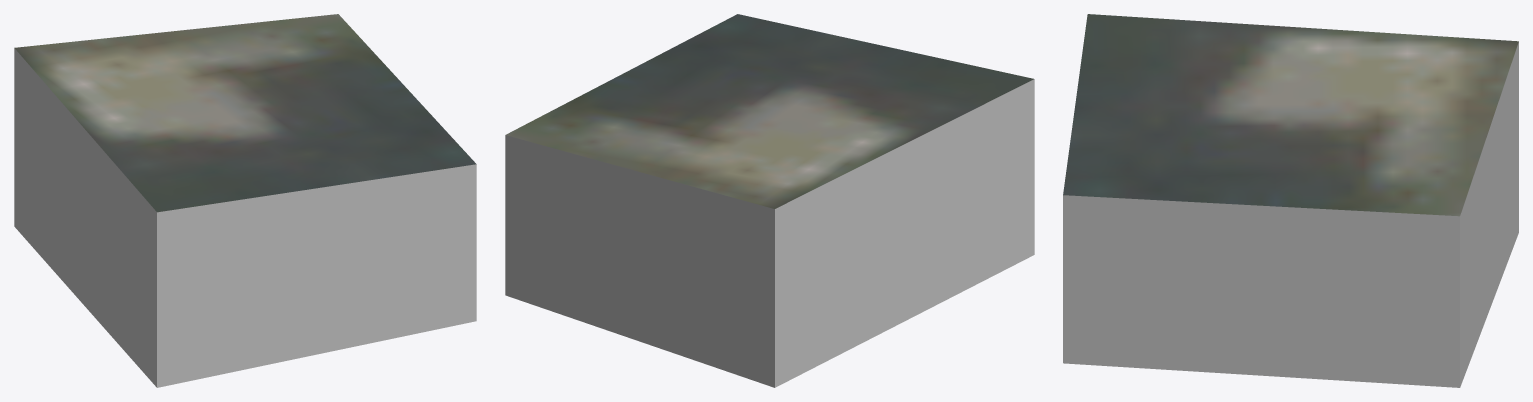
Rendered from DEBW_0010007TxbF.gltf.
3 renders of one model, left to right at view 1: azimuth 30°, elevation 25°; view 2: azimuth 150°, elevation 25°; view 3: azimuth 270°, elevation 25°, orthographic. The views are drawn at different scales.
Parts seen in each view (by area): view 1: Z_UP; view 2: Z_UP; view 3: Z_UP.
Boxes of the visible parts, box(x1,y1,x2,y2) form: Z_UP: box(14, 14, 476, 387); Z_UP: box(505, 14, 1034, 387); Z_UP: box(1063, 14, 1518, 387).
Bounding box in the file's own units: 5.9 × 2.84 × 6.12.
2 materials, 1 textured.
